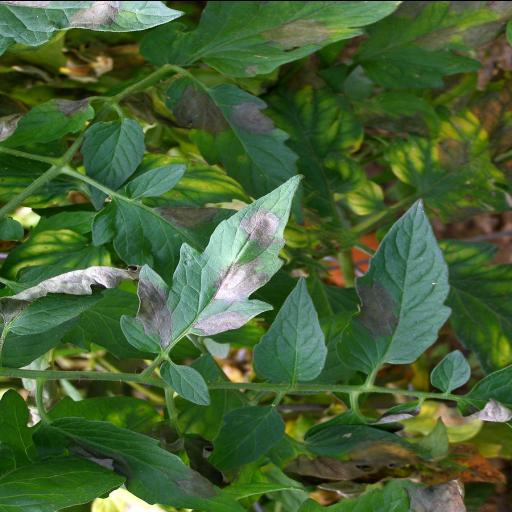Healthy: (252, 274, 330, 380), (82, 116, 144, 208), (208, 402, 288, 471), (156, 362, 208, 404)
Late Blight: (118, 176, 294, 360), (332, 193, 454, 379), (136, 0, 404, 81), (35, 416, 251, 512), (162, 76, 297, 208), (282, 422, 504, 496), (0, 0, 184, 47), (6, 92, 102, 148)
